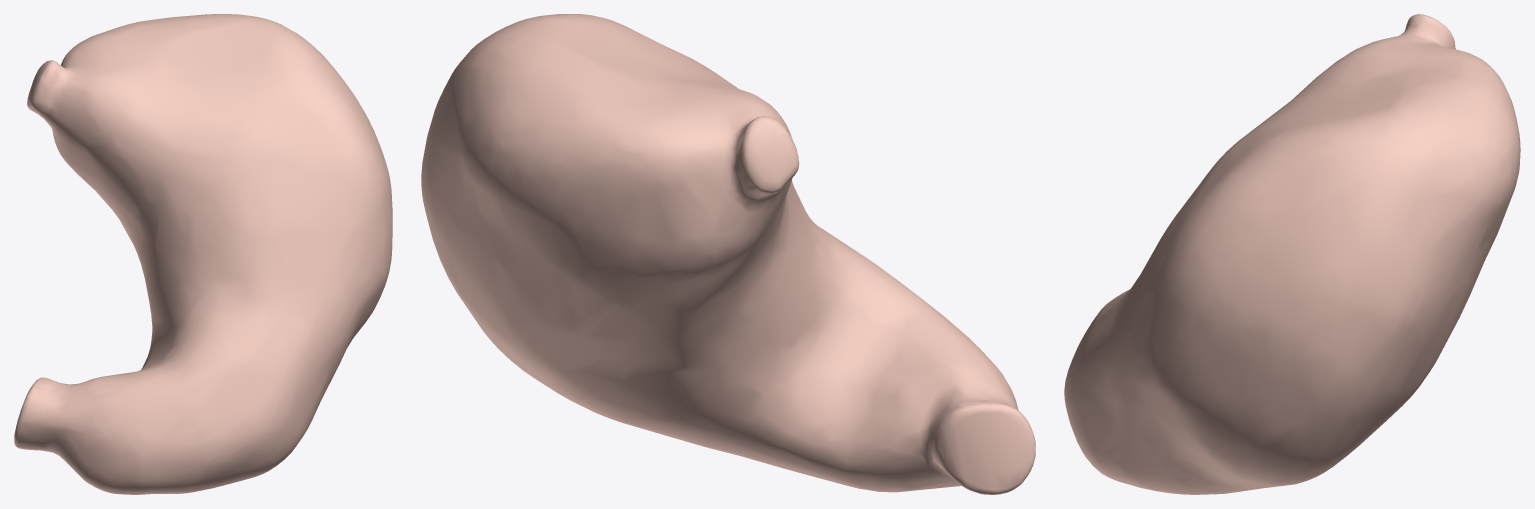
The model's file is stomach.glb.
3 renders of one model, left to right at view 1: azimuth 30°, elevation 25°; view 2: azimuth 150°, elevation 25°; view 3: azimuth 270°, elevation 25°, orthographic. The views are drawn at different scales.
Parts seen in each view (by area): view 1: stomach; view 2: stomach; view 3: stomach.
Boxes of the visible parts, left/top/right/bottom form: stomach: left=14, top=14, right=392, bottom=494; stomach: left=421, top=14, right=1035, bottom=494; stomach: left=1064, top=14, right=1520, bottom=494.
Size of the model in its own units: 0.1417 by 0.1202 by 0.1152.
